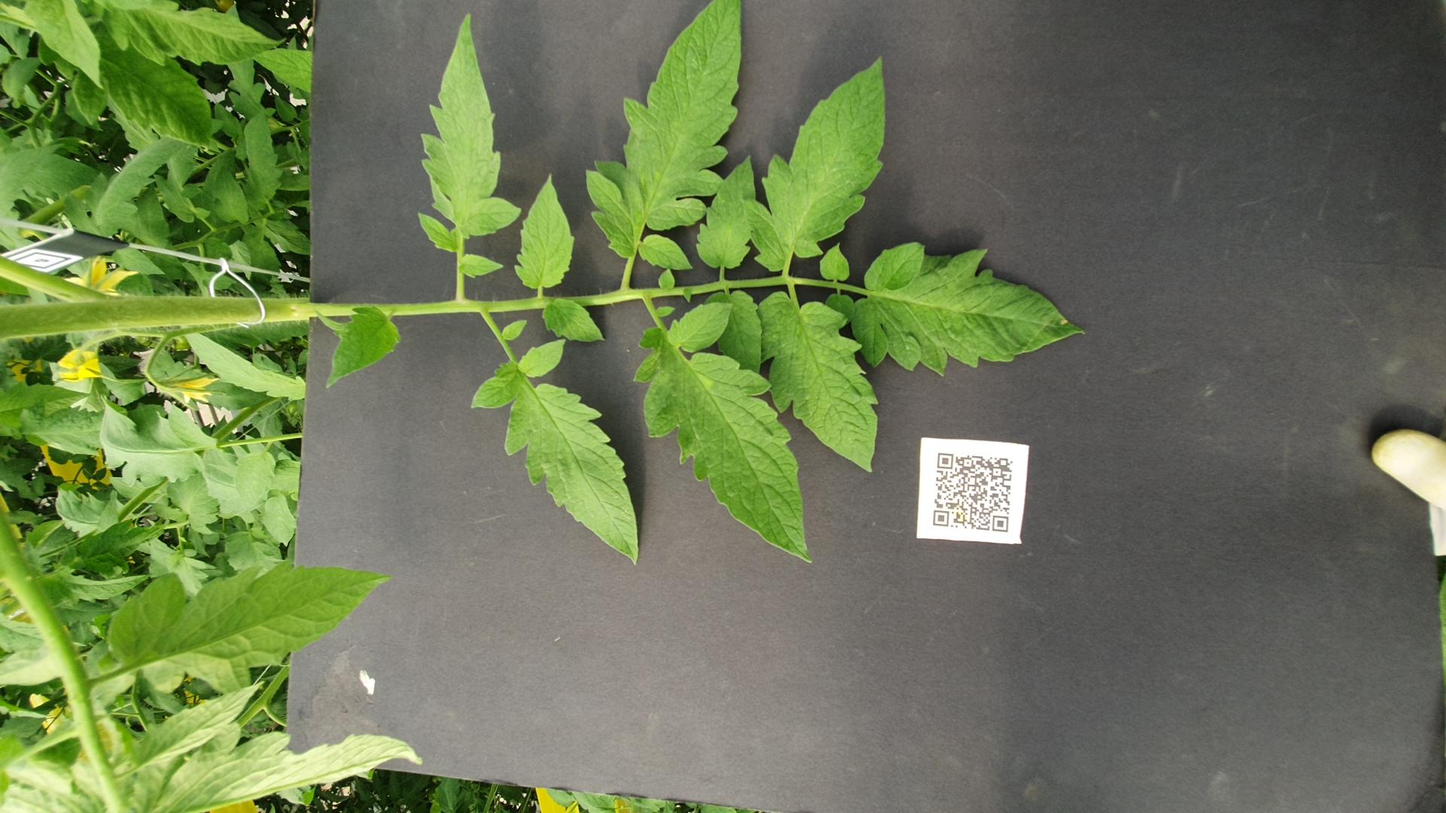Healthy: (441, 356, 909, 457), (966, 329, 1446, 417), (206, 61, 450, 219), (442, 265, 843, 359), (962, 418, 1346, 498), (778, 478, 1008, 611), (997, 234, 1420, 293), (0, 80, 144, 238), (605, 425, 925, 494), (1180, 41, 1405, 120), (1326, 52, 1446, 162), (1028, 36, 1204, 104), (584, 55, 727, 122), (734, 101, 852, 172), (1286, 12, 1446, 60), (932, 288, 1139, 323), (971, 390, 1170, 425), (755, 183, 902, 226), (673, 0, 767, 52), (632, 11, 727, 59), (434, 44, 527, 93), (364, 29, 435, 88), (1079, 137, 1252, 158), (1050, 86, 1137, 118), (839, 305, 919, 339), (534, 131, 642, 155), (1046, 120, 1145, 140), (473, 147, 567, 166), (994, 148, 1057, 174), (958, 63, 1007, 93)
